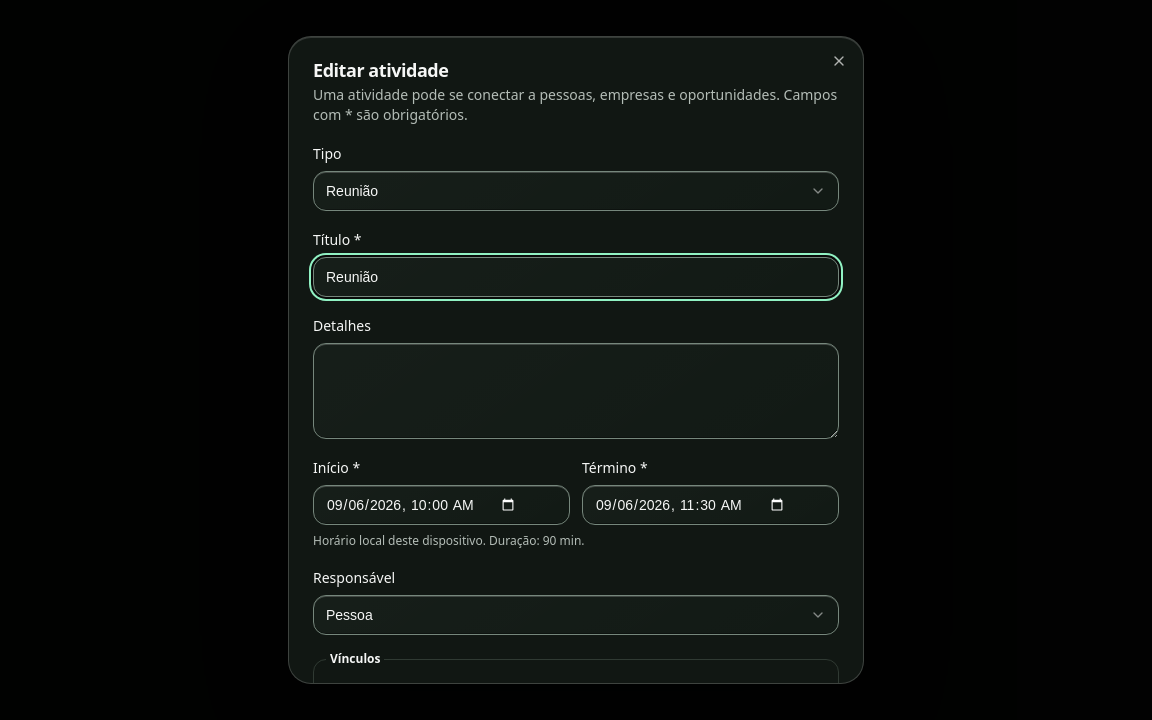
Scenario: editor único de atividades › reagendar reunião move término junto e preserva duração de 90 minutos
Later steps or results of the test are not shown.
Step 1. Replace the text in the field labelled "Início *" with "2026-09-07T14:00" → (442, 505), box [313,485,570,525]
(page scrolled)
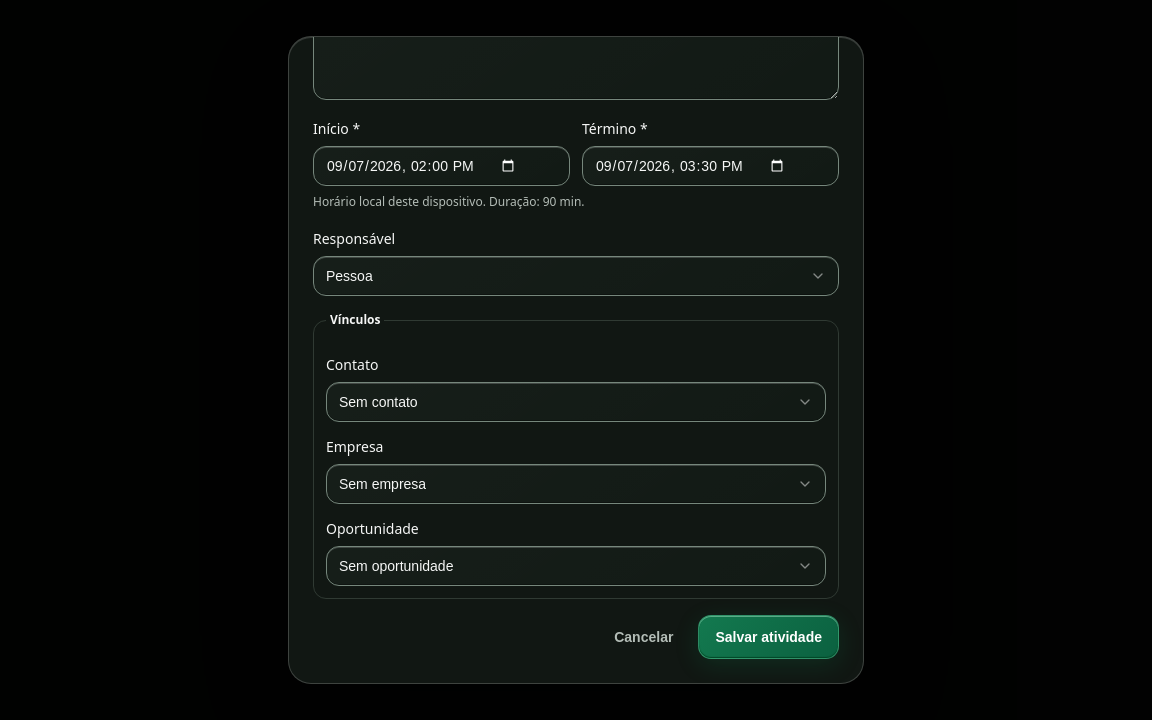
Expected: the field labelled "Término *" holds "2026-09-07T15:30", [582,146,839,186]
